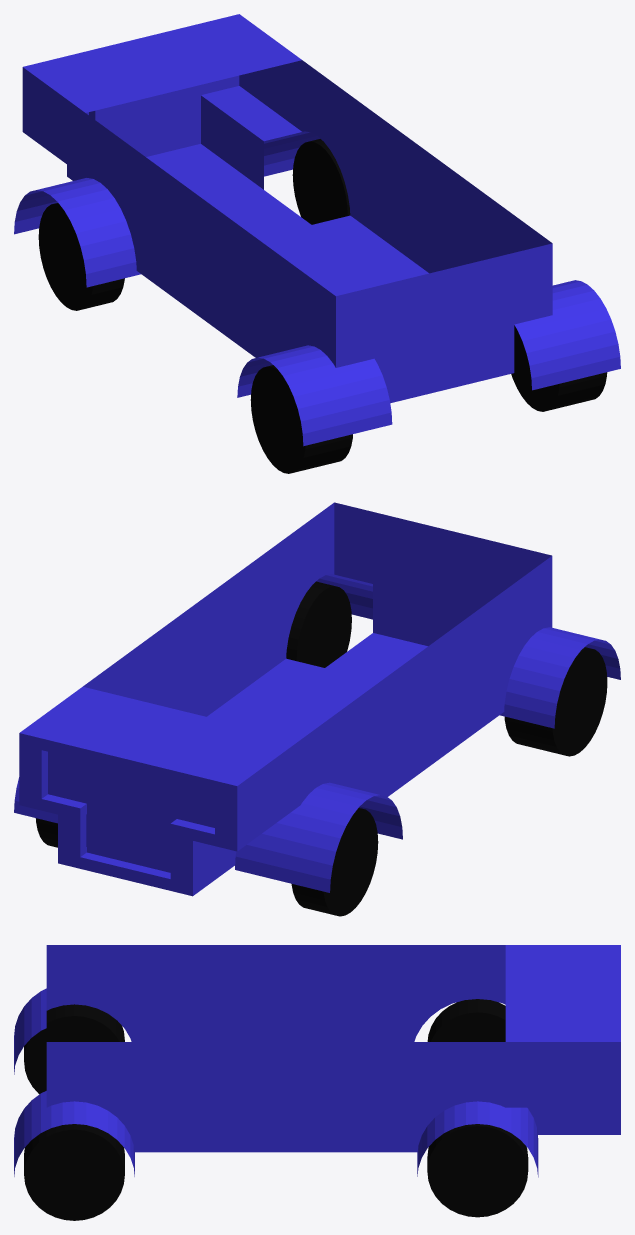
The model's file is steerable_car.glb.
The picture shows the model from 3 angles, top to bottom: view 1: azimuth 30°, elevation 25°; view 2: azimuth 150°, elevation 25°; view 3: azimuth 270°, elevation 25°; orthographic projection. The views are drawn at different scales.
Visible parts, largest first — view 1: chassis, wheel_lr, wheel_lf, wheel_rf, wheel_rr; view 2: chassis, wheel_lr, wheel_lf, wheel_rr; view 3: chassis, wheel_rr, wheel_rf, wheel_lr, wheel_lf.
Part boxes in pixels (<box>): chassis: <box>14,14,620,446</box>; wheel_lr: <box>250,365,352,473</box>; wheel_lf: <box>38,203,124,310</box>; wheel_rf: <box>292,139,350,224</box>; wheel_rr: <box>511,325,607,411</box>; chassis: <box>14,502,620,896</box>; wheel_lr: <box>504,647,607,756</box>; wheel_lf: <box>291,808,378,916</box>; wheel_rr: <box>286,581,351,667</box>; chassis: <box>14,945,620,1177</box>; wheel_rr: <box>24,1124,124,1220</box>; wheel_rf: <box>427,1124,528,1217</box>; wheel_lr: <box>24,1004,124,1094</box>; wheel_lf: <box>427,999,505,1041</box>.
Size of the model in its own units: 2 by 1.05 by 3.61.
